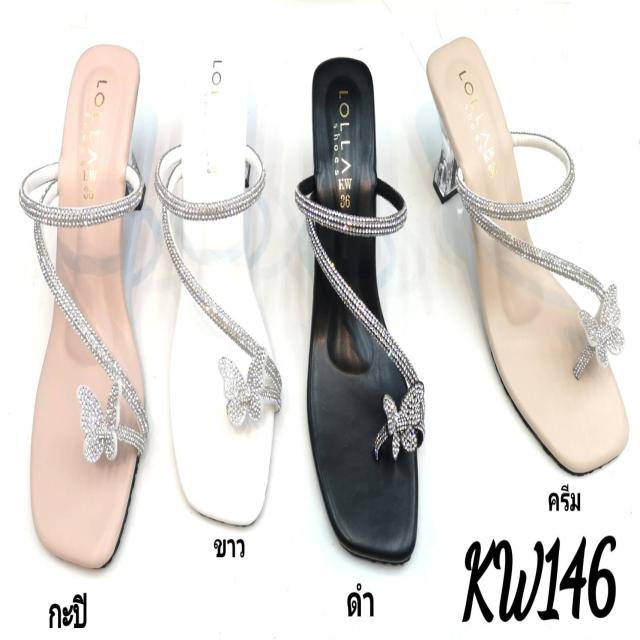black: (310, 51, 419, 561)
cream: (428, 34, 630, 476)
kapi: (28, 44, 146, 570)
white: (169, 30, 278, 533)
